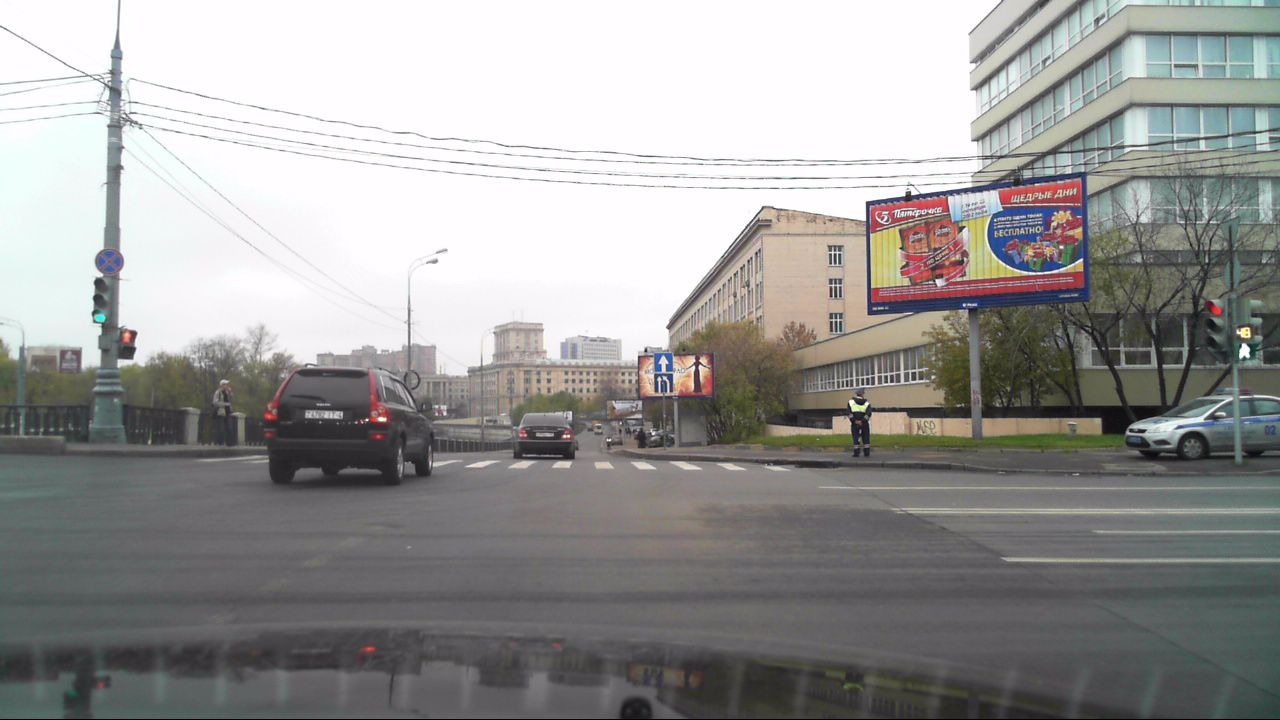No Parking: (95, 248, 125, 275)
